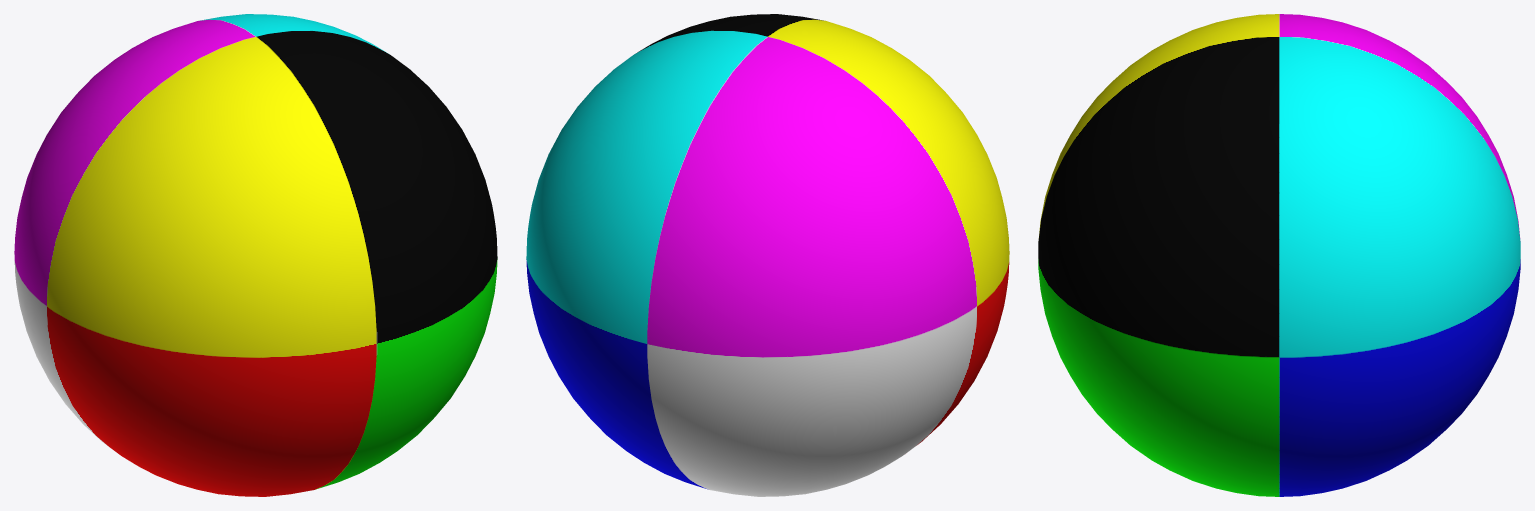
Rendered from 8-colored-sphere.obj.
3 renders of one model, left to right at view 1: azimuth 30°, elevation 25°; view 2: azimuth 150°, elevation 25°; view 3: azimuth 270°, elevation 25°, orthographic.
Parts seen in each view (by area): view 1: FMO; view 2: FMO; view 3: FMO.
Part boxes in pixels (x1=…): FMO: x1=14, y1=14, x2=497, y2=496; FMO: x1=526, y1=14, x2=1009, y2=496; FMO: x1=1038, y1=14, x2=1520, y2=496.
Bounding box in the file's own units: 2 × 2 × 2.
Materials: 1 (1 with a texture image).
